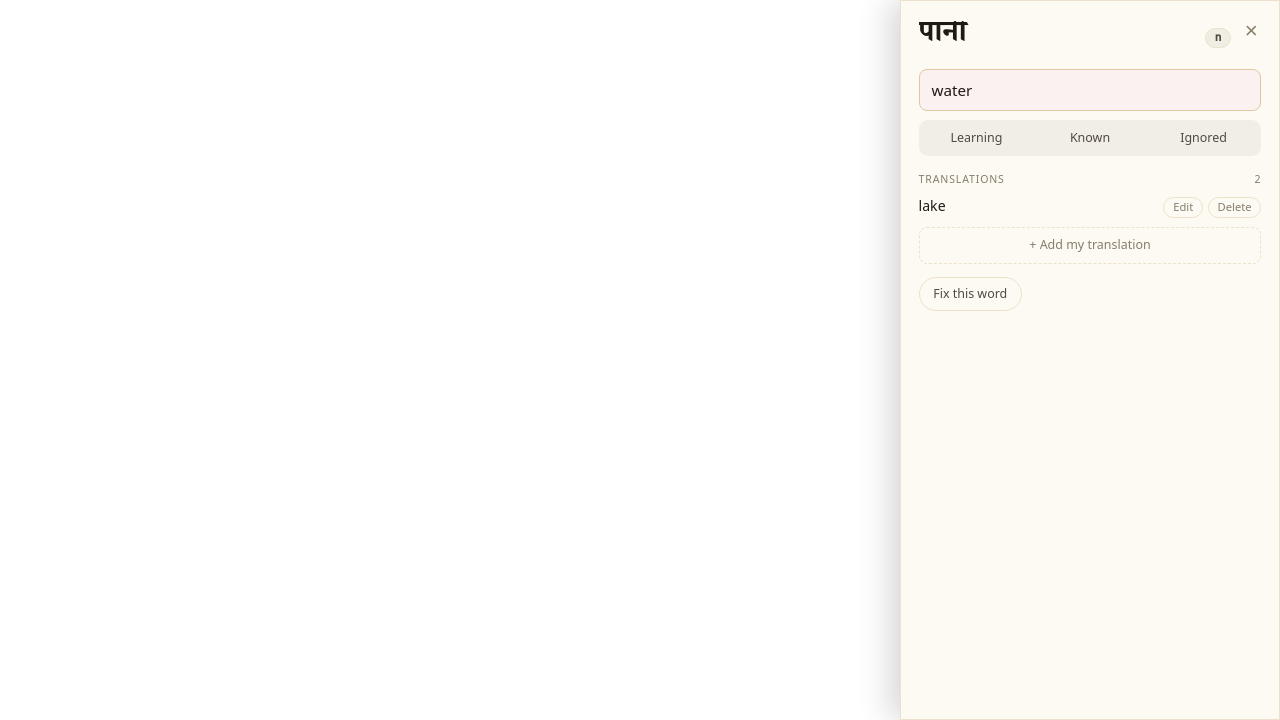
Test: WordPopup — edit + delete personal translations › Delete on a secondary row confirms, sends DELETE, and refetches
Click the button with test id "delete-personal" at (1235, 207), box [1208, 197, 1261, 218]
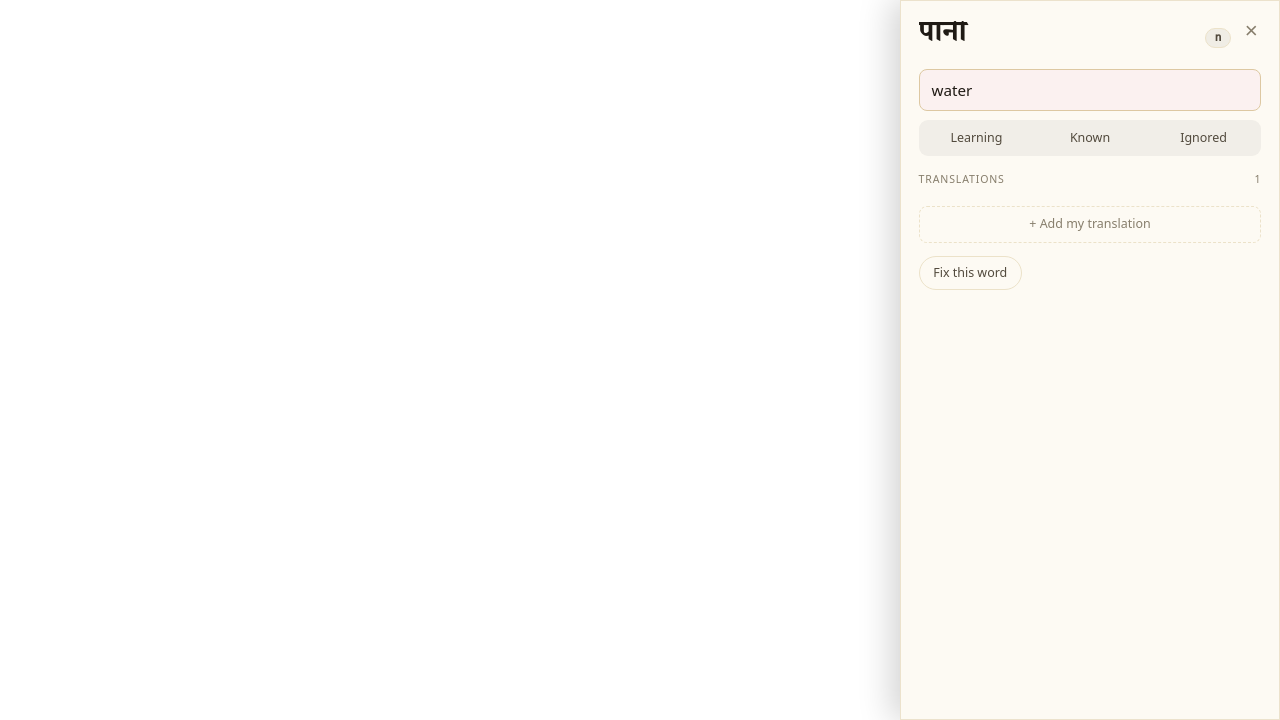
Result: the list item with test id "personal-row" is gone
